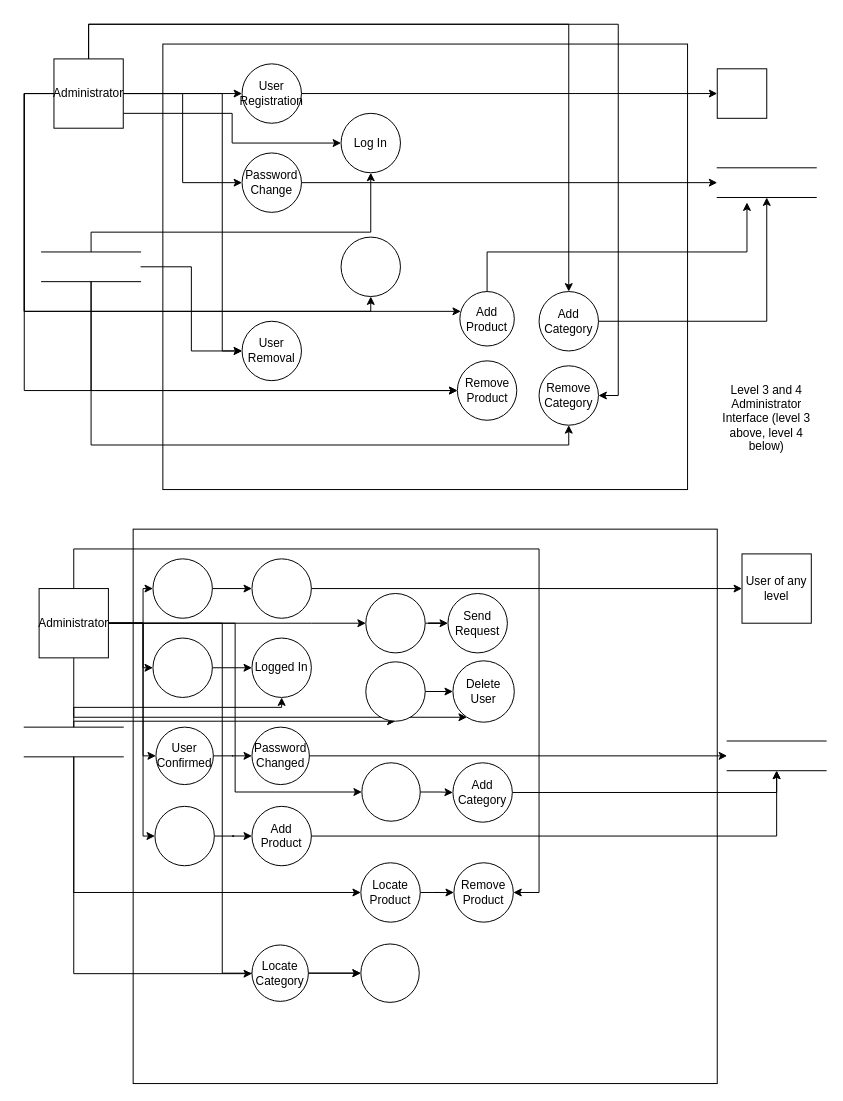
The diagram is 843 pixels wide and 1101 high, and some of its shapes have lost their labels. The box of each missing label's shape, as (x1, y1, x2, y2) in pixels:
Access User: (365, 661, 425, 721)
Compile Request: (365, 593, 425, 653)
Delete Category: (360, 943, 419, 1002)
Fill In Category Data: (361, 762, 420, 821)
Fill-in Product Data: (154, 805, 214, 866)
Insert User Data: (152, 558, 212, 618)
Interface Accessed: (152, 637, 212, 697)
New User of any level: (716, 68, 767, 118)
Provide User With Data: (251, 558, 311, 618)
Request supplies: (340, 236, 400, 297)
